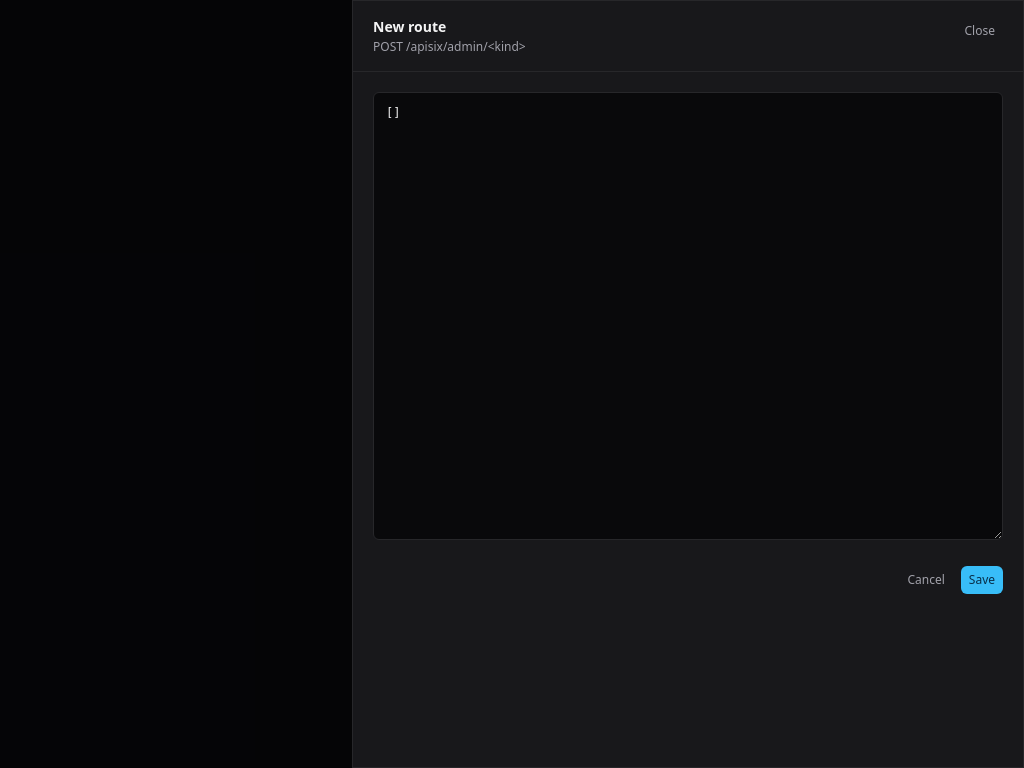
Test: <ResourceJsonDrawer> › rejects array roots — the gateway expects a JSON object
The image size is (1024, 768).
Click the button "Save" at (982, 580), box [961, 566, 1003, 594]
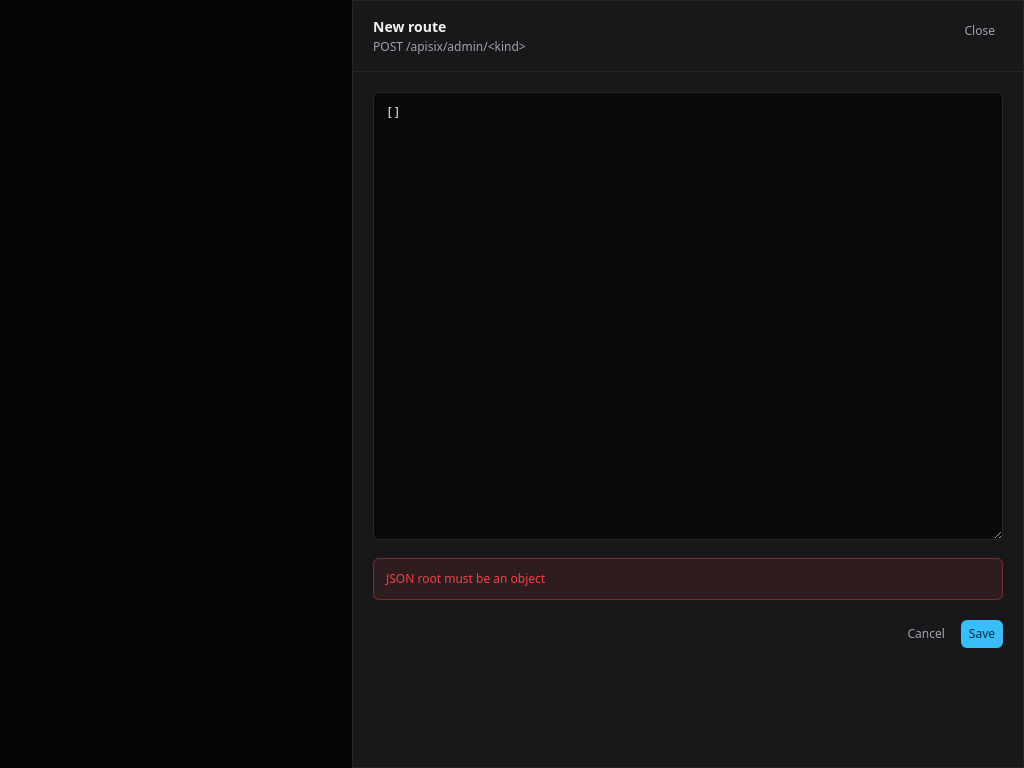
Check: the message with test id "json-parse-error" reads "JSON root must be an object", box [386, 570, 545, 587]
